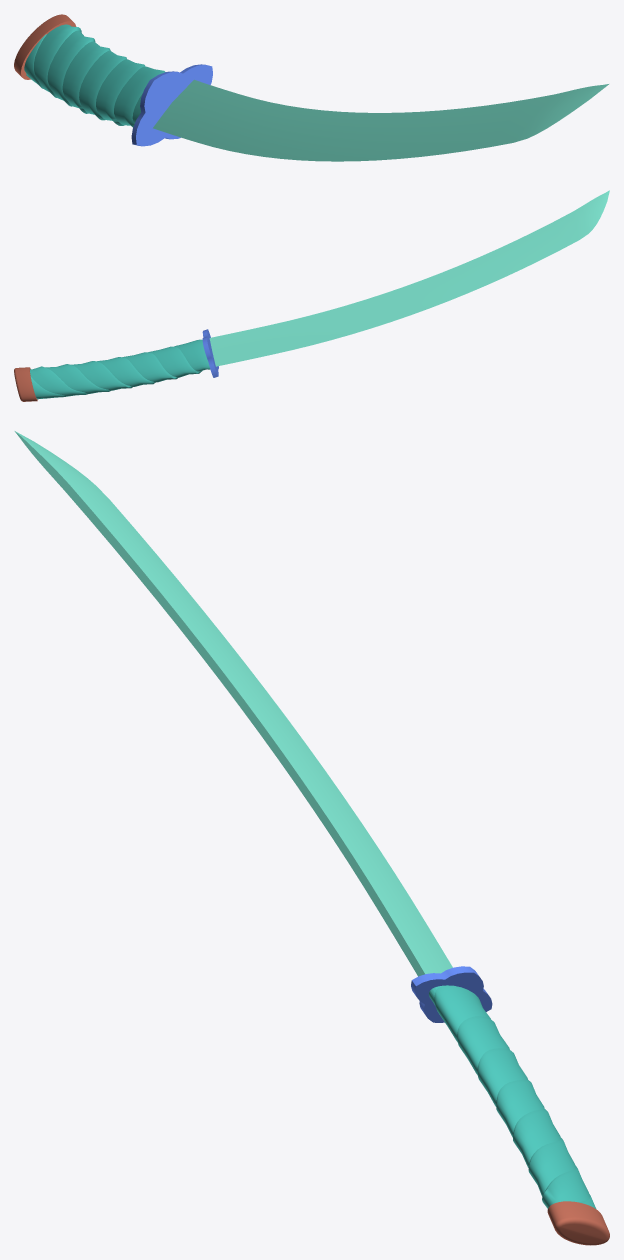
3 renders of one model, top to bottom at view 1: azimuth 90°, elevation 25°; view 2: azimuth 150°, elevation 25°; view 3: azimuth 270°, elevation 25°, orthographic. The views are drawn at different scales.
Parts seen in each view (by area): view 1: Object_4, split_parent_2, Object_7, Object_14; view 2: Object_4, split_parent_2, Object_14, Object_7; view 3: Object_4, split_parent_2, Object_14, Object_7.
Part boxes in pixels (x1,y1,x2,y2): Object_4: (153,79,608,161); split_parent_2: (24,24,165,127); Object_7: (131,64,212,146); Object_14: (14,14,76,79); Object_4: (209,190,609,366); split_parent_2: (30,339,210,399); Object_14: (14,367,37,401); Object_7: (202,329,218,377); Object_4: (14,431,452,976); split_parent_2: (428,985,596,1208); Object_14: (547,1201,609,1245); Object_7: (411,966,492,1022).
Bounding box in the file's own units: 1 × 0.4308 × 0.5802.
